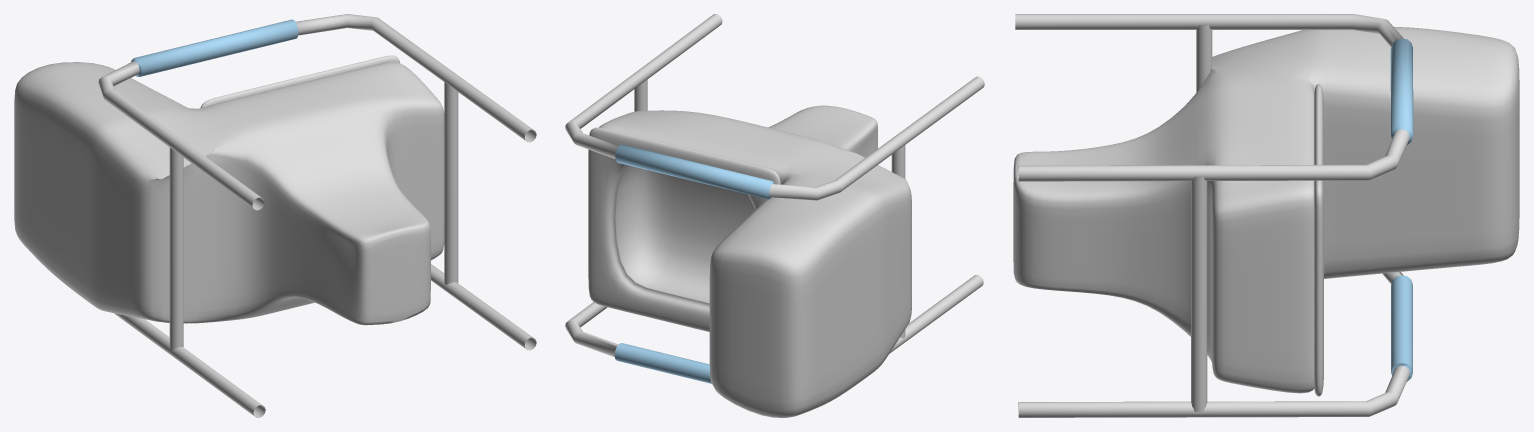
The picture shows the model from 3 angles, left to right: view 1: azimuth 30°, elevation 25°; view 2: azimuth 150°, elevation 25°; view 3: azimuth 270°, elevation 25°; orthographic projection. The views are drawn at different scales.
Visible parts, largest first — view 1: Cube; view 2: Cube; view 3: Cube.
Part boxes in pixels (x1,y1,x2,y2): Cube: [14, 14, 536, 417]; Cube: [565, 14, 984, 417]; Cube: [1013, 14, 1519, 417].
Bounding box in the file's own units: 62.19 × 43.04 × 76.95.
